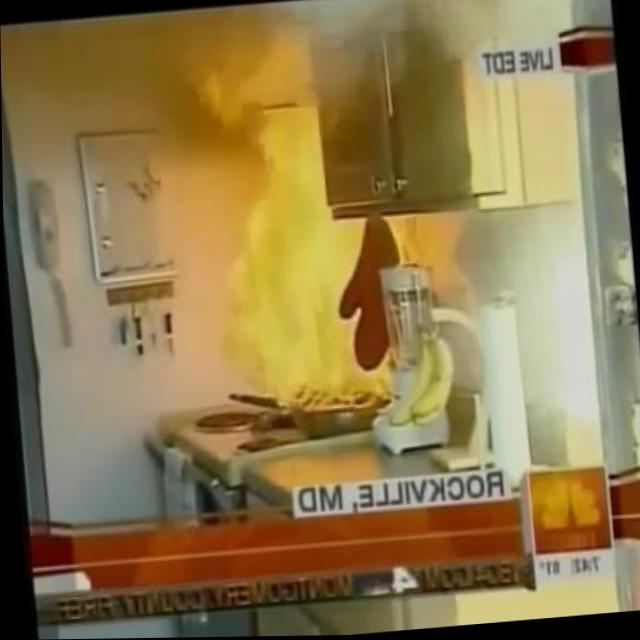fire: (182, 13, 410, 423)
